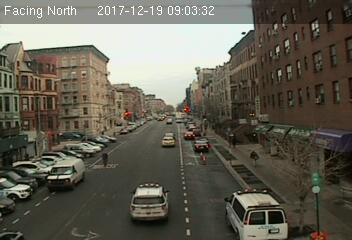car: (161, 135, 175, 148), (193, 141, 209, 152), (183, 131, 195, 140)
pedestrian: (248, 148, 262, 174)
police: (222, 187, 290, 239), (128, 181, 169, 223)
truck: (46, 157, 86, 189)
